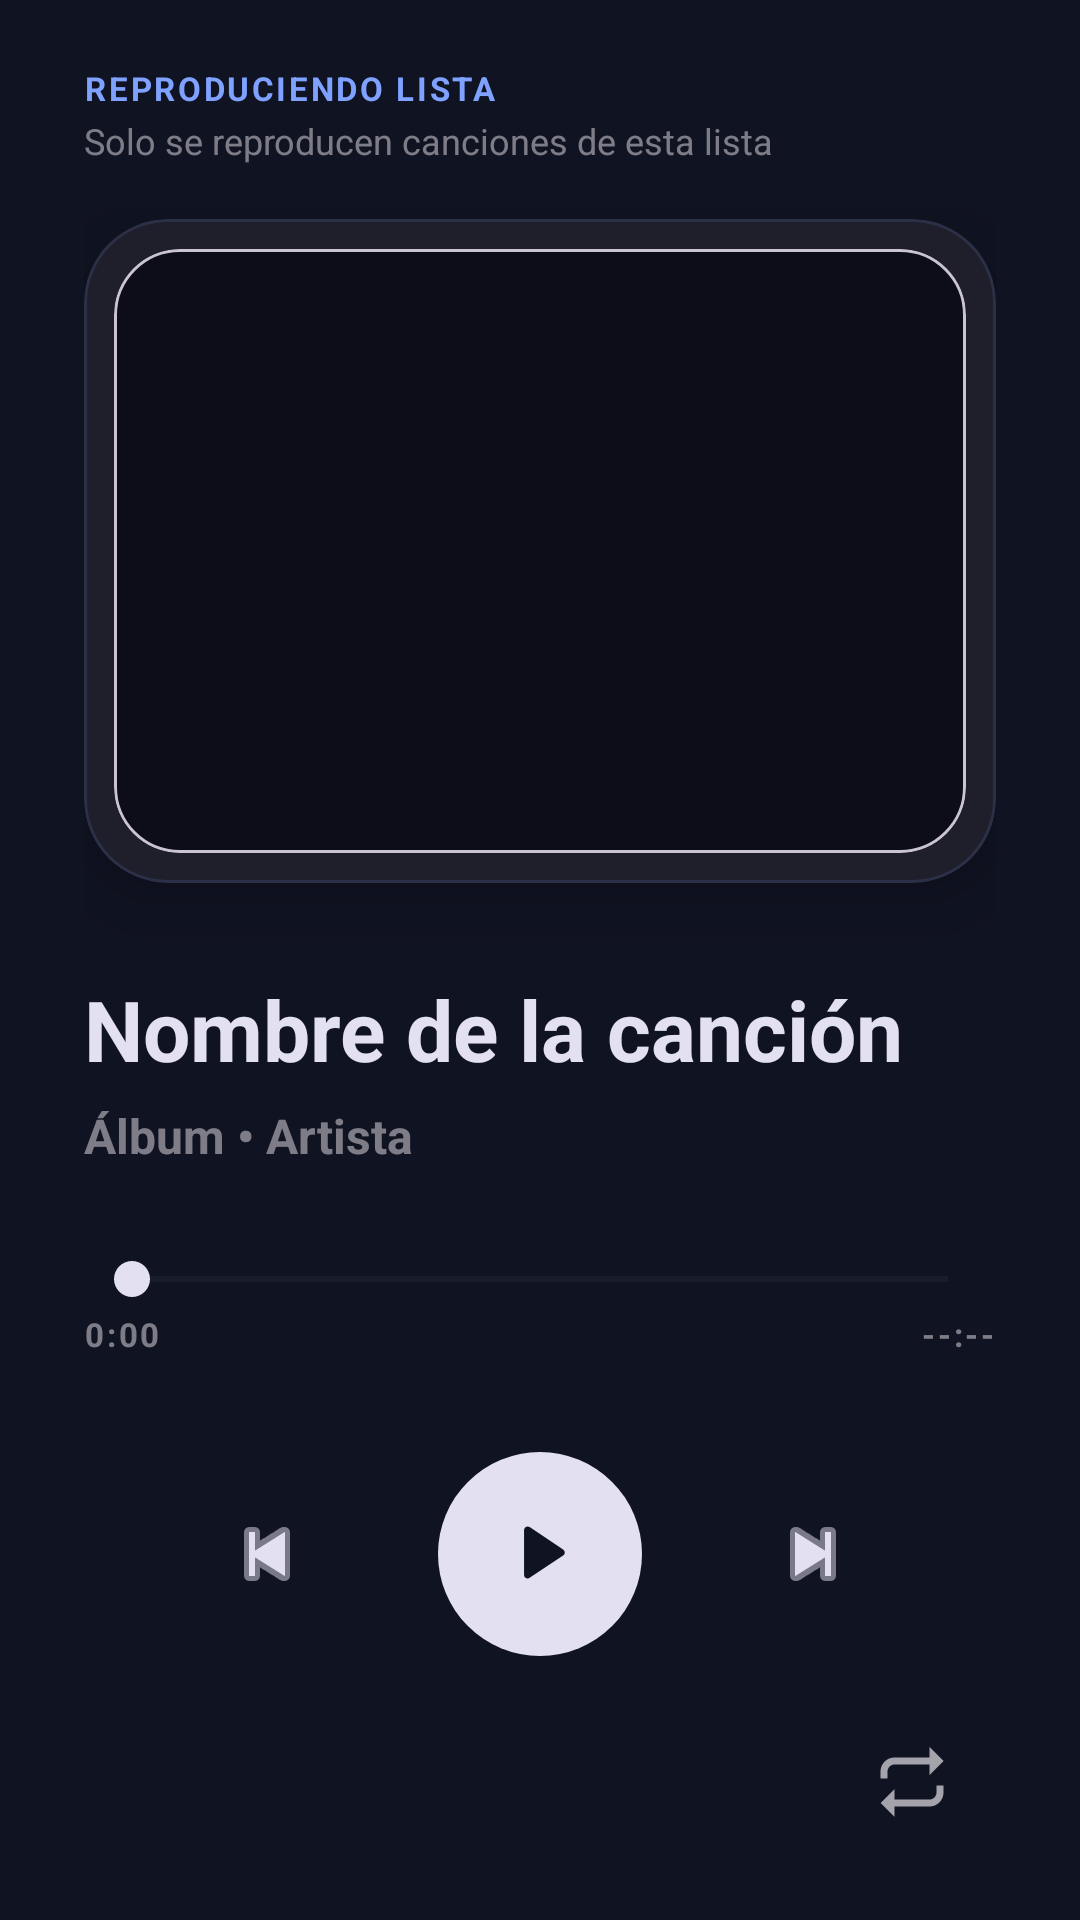

Where icons sit on this 1080*1920 app screen, as (x1, y1, x2, y2):
Canción anterior: (244, 1527, 290, 1581)
Modo de reproducción: (880, 1747, 944, 1817)
Siguiente canción: (790, 1527, 836, 1581)
